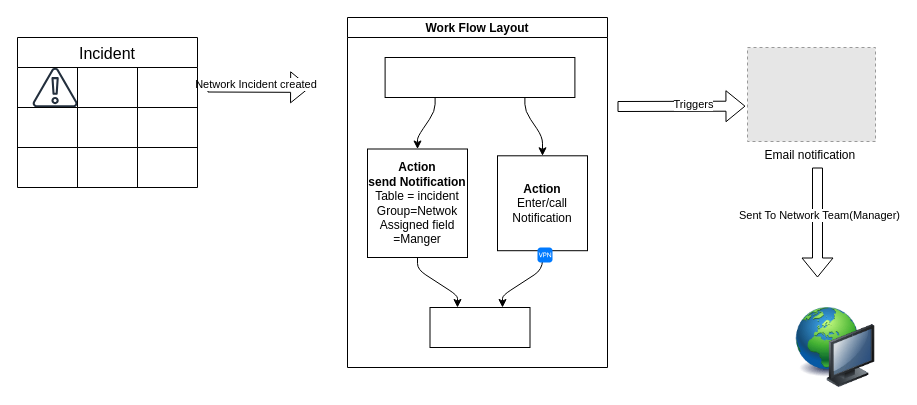
Some shapes in this 917 by 405 pixel diagram are drawn without their labels. Grey dashed boxes stand in for pictures. Each missing label, with the centre of its shape:
"Activate" goes at [479,327].
"Trigger critical = urgency1+prioprty1 Category=Network" goes at [479,77].
